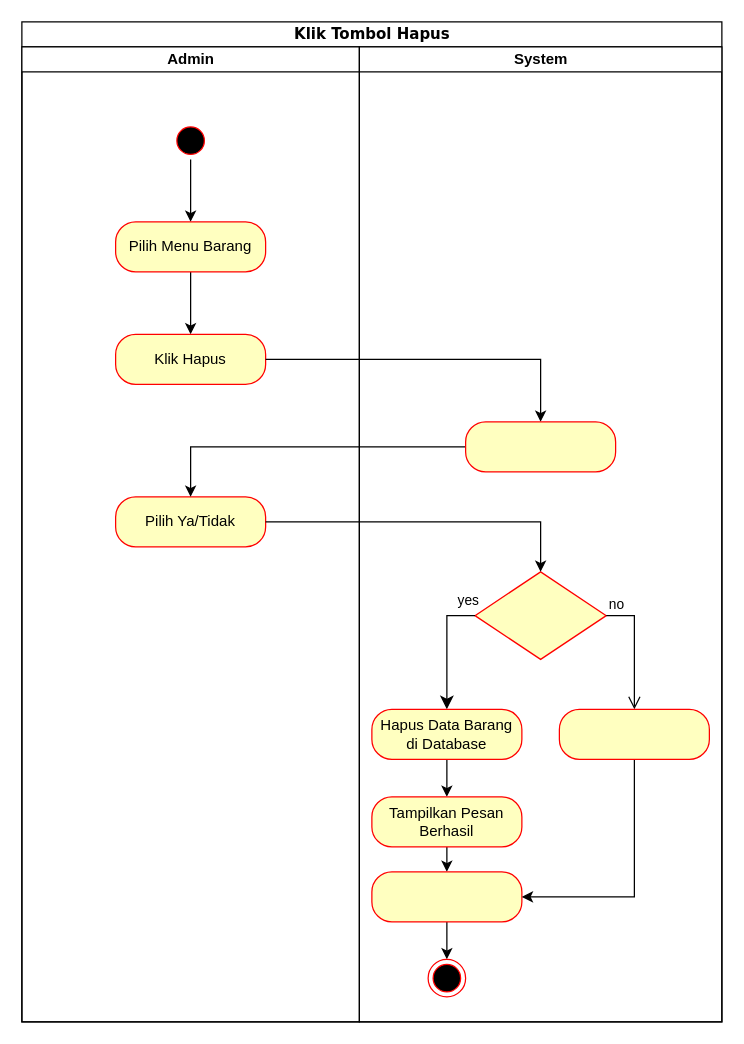
Some shapes in this 744 by 1044 pixel diagram are drawn without their labels. Each missing label, with the centre of its shape:
"Batalkan Hapus" belongs at pixel 633 733.
"Keputusan Konfirmasi?" belongs at pixel 540 615.
"Tampilkan Daftar Barang" belongs at pixel 446 896.
"Tampilkan Konfirmasi Hapus" belongs at pixel 540 446.
